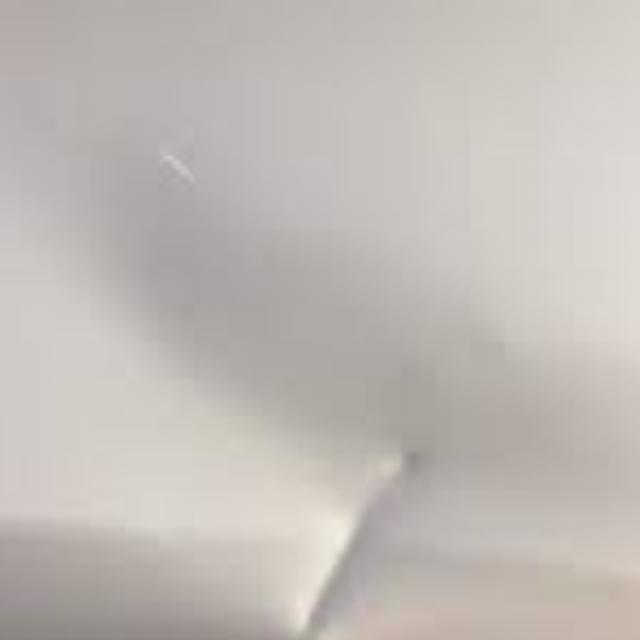dents: (281, 415, 439, 640)
